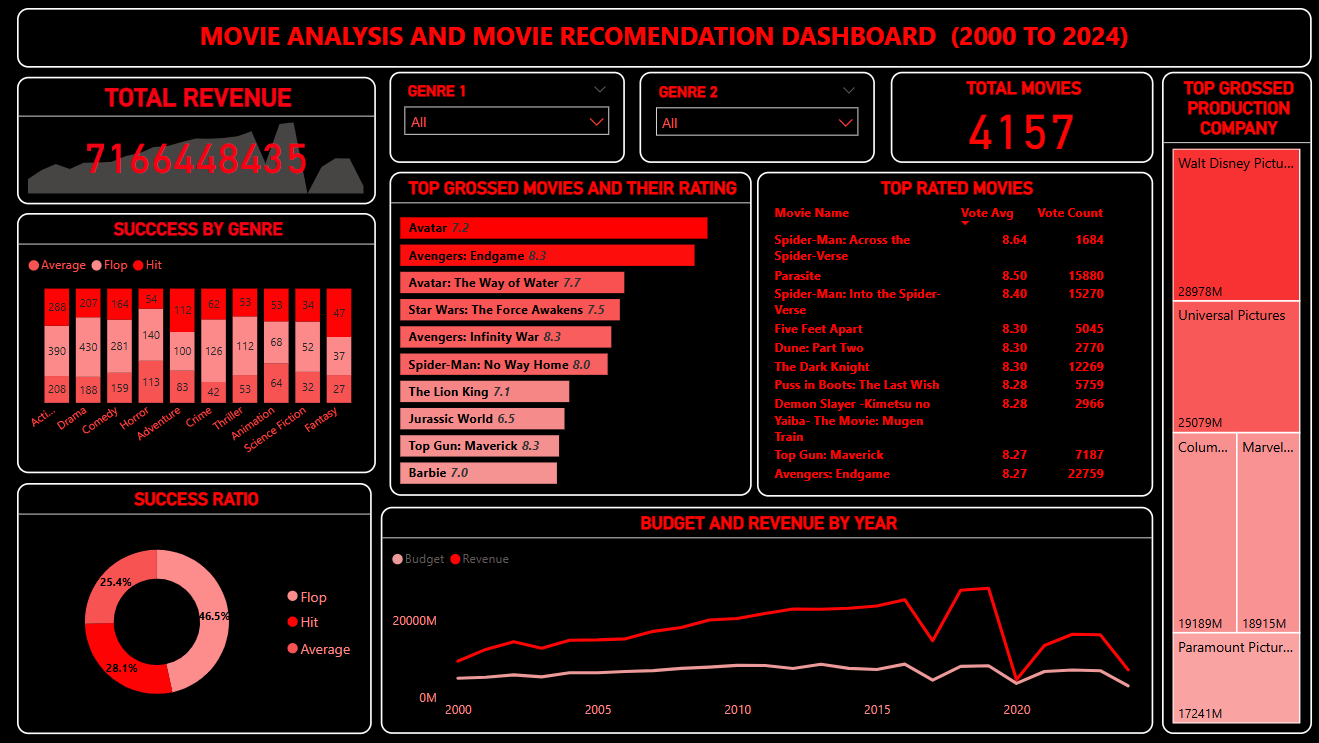

The dashboard page shown, as its layout file describes it:
{"tool":"powerbi","page":{"name":"Page 1","canvas":[1280,720],"ordinal":0},"visuals":[{"type":"kpi","title":"TOTAL REVENUE","fields":{"TrendLine":["movies2000-2024.Year"],"Indicator":["Sum(movies2000-2024.revenue)"]},"box":[19.3,76,346.2,123.1],"z":0},{"type":"hundredPercentStackedColumnChart","title":"SUCCCESS BY GENRE","fields":{"Category":["movies2000-2024.genres.1"],"Series":["movies2000-2024.Success"],"Y":["CountNonNull(movies2000-2024.title)"]},"box":[19.3,207.5,346.2,250.9],"z":1000},{"type":"clusteredBarChart","title":"TOP GROSSED MOVIES AND THEIR RATING","fields":{"Category":["movies2000-2024.title"],"Y":["Sum(movies2000-2024.profit)"]},"box":[378.8,167.7,349.9,312.5],"z":2000},{"type":"treemap","title":"TOP GROSSED PRODUCTION COMPANY","fields":{"Group":["movies2000-2024.production_companies.1"],"Values":["Sum(movies2000-2024.profit)"]},"box":[1124.4,71.2,144.8,639.4],"z":3000},{"type":"donutChart","title":"SUCCESS RATIO","fields":{"Category":["movies2000-2024.Success"],"Y":["CountNonNull(movies2000-2024.title)"]},"box":[19.3,468.1,342.6,242.5],"z":4000},{"type":"slicer","fields":{"Values":["movies2000-2024.genres.1"]},"box":[620.1,71.2,226.8,88.1],"z":5000},{"type":"slicer","fields":{"Values":["movies2000-2024.genres.2"]},"box":[378.8,71.2,226.8,88.1],"z":6000},{"type":"lineChart","title":"BUDGET AND REVENUE BY YEAR","fields":{"Category":["movies2000-2024.Year"],"Y":["Sum(movies2000-2024.budget)","Sum(movies2000-2024.revenue)"]},"box":[370.4,491,745.6,219.6],"z":7000},{"type":"card","title":"TOTAL MOVIES","fields":{"Values":["CountNonNull(movies2000-2024.title)"]},"box":[862.6,71.2,253.4,88.1],"z":8000},{"type":"tableEx","title":"TOP RATED MOVIES","fields":{"Values":["movies2000-2024.title","movies2000-2024.vote_average","movies2000-2024.vote_count"]},"box":[733.5,167.7,382.4,313.7],"z":9000},{"type":"textbox","box":[19.3,9.7,1249.9,57.9],"z":10000}]}

Visuals, with their boxes in screenshot pixels (x1, y1, x2, y2), scaled from the page's 1280x720 canvas onto the 1319x743 screenshot:
"TOTAL REVENUE" kpi: 20/78/377/205
"SUCCCESS BY GENRE" hundredPercentStackedColumnChart: 20/214/377/473
"TOP GROSSED MOVIES AND THEIR RATING" clusteredBarChart: 390/173/751/496
"TOP GROSSED PRODUCTION COMPANY" treemap: 1159/73/1308/733
"SUCCESS RATIO" donutChart: 20/483/373/733
slicer - movies2000-2024.genres.1: 639/73/873/164
slicer - movies2000-2024.genres.2: 390/73/624/164
"BUDGET AND REVENUE BY YEAR" lineChart: 382/507/1150/733
"TOTAL MOVIES" card: 889/73/1150/164
"TOP RATED MOVIES" tableEx: 756/173/1150/497
textbox: 20/10/1308/70
